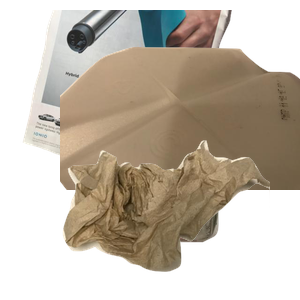glass: (73, 153, 284, 300)
paper: (20, 10, 244, 190)
plastic: (60, 44, 300, 224)
trash: (60, 138, 300, 300)
